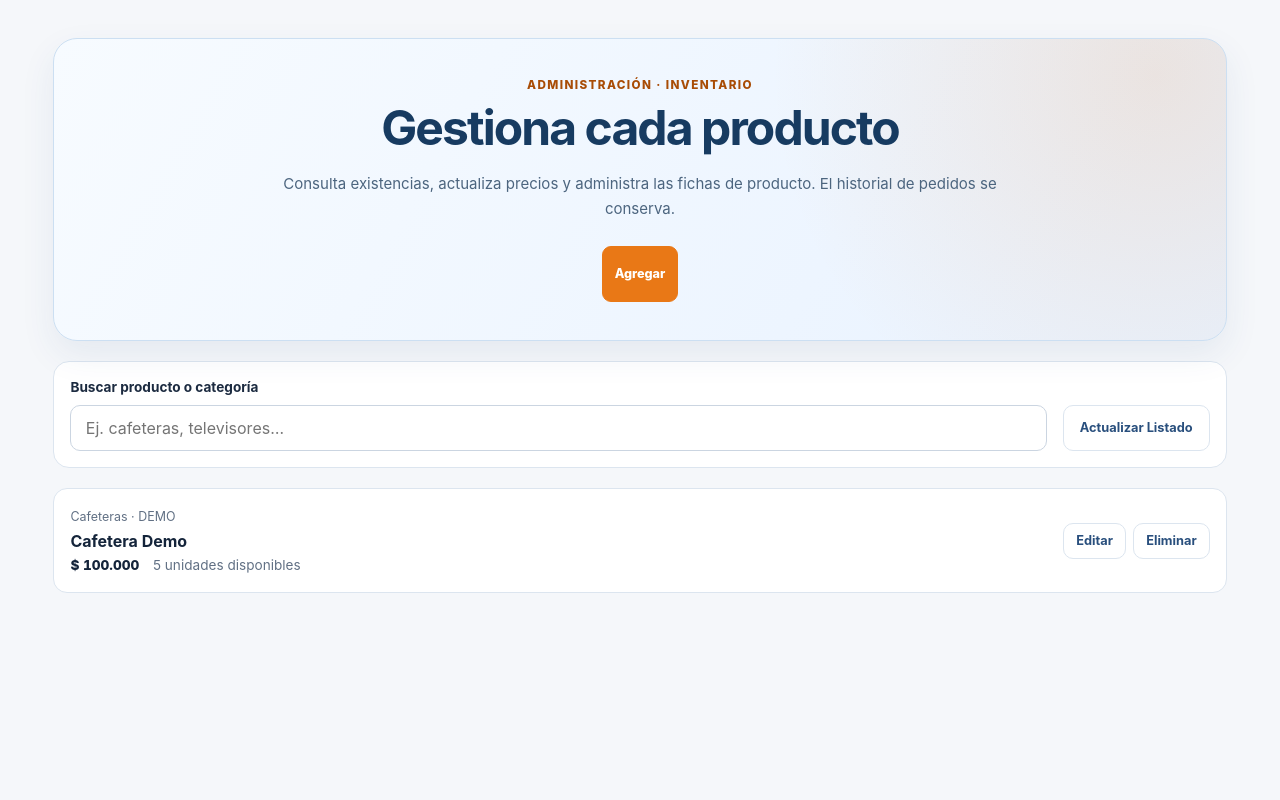
Test: AdminInventory › surfaces server rejection when referenced order prevents deletion
Click the button "Eliminar".
click(1171, 540)  # box [1133,522,1210,558]
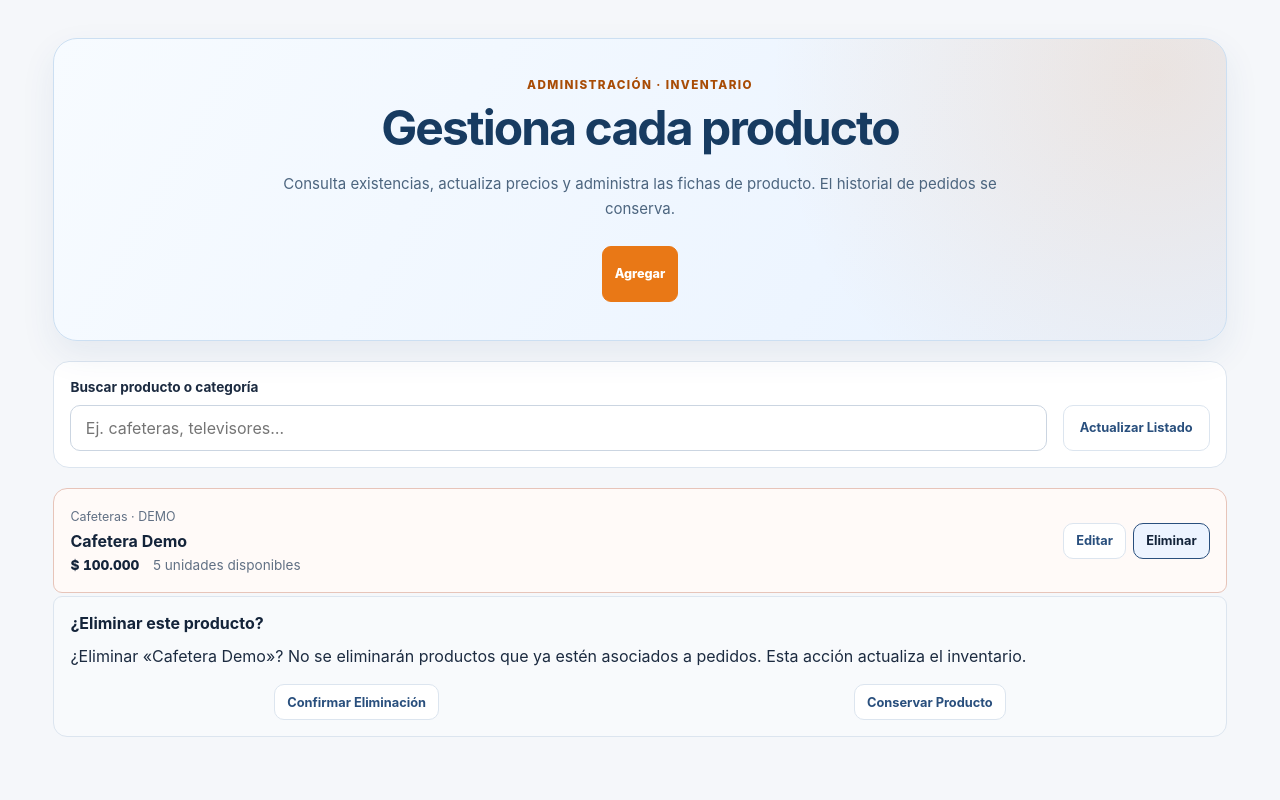
Click the button "Confirmar Eliminación".
click(357, 702)  # box [274,684,439,720]
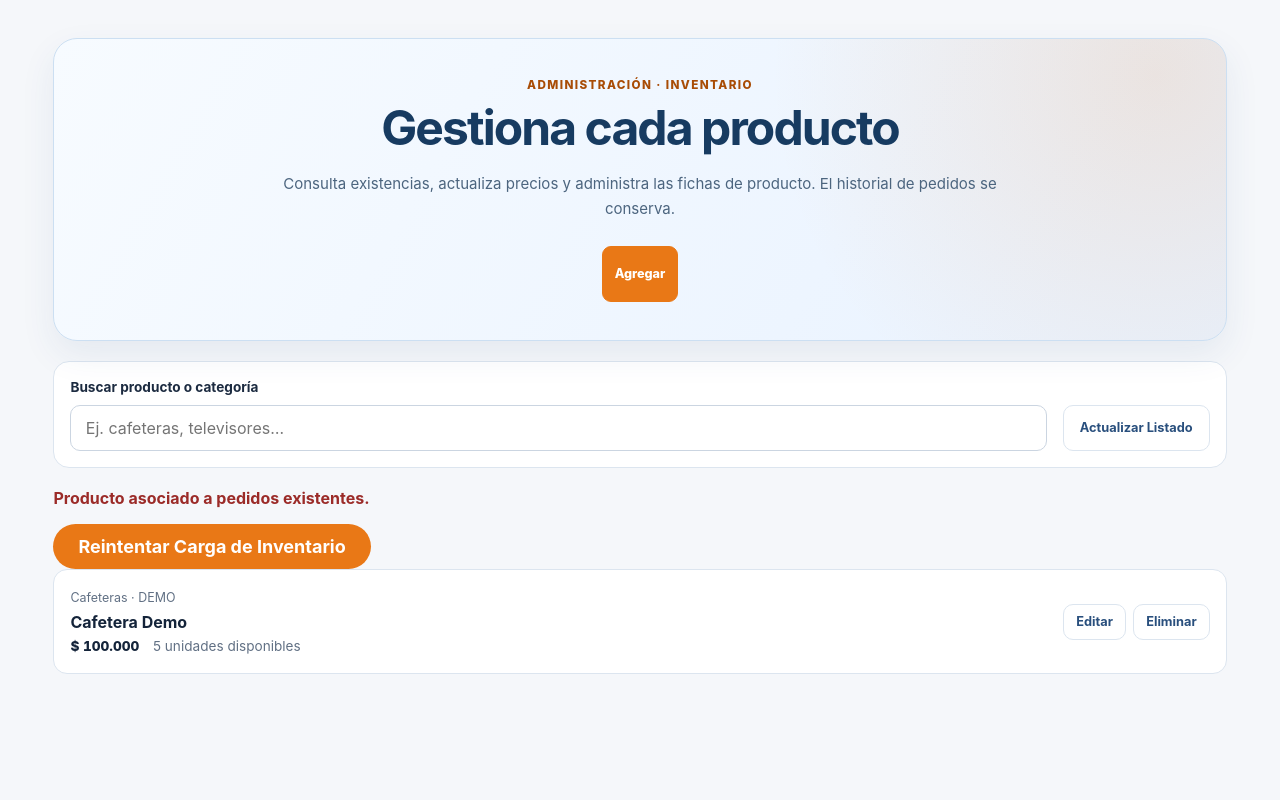
Result: the text "Producto asociado a pedidos existentes." is shown at [53,488,370,508]
